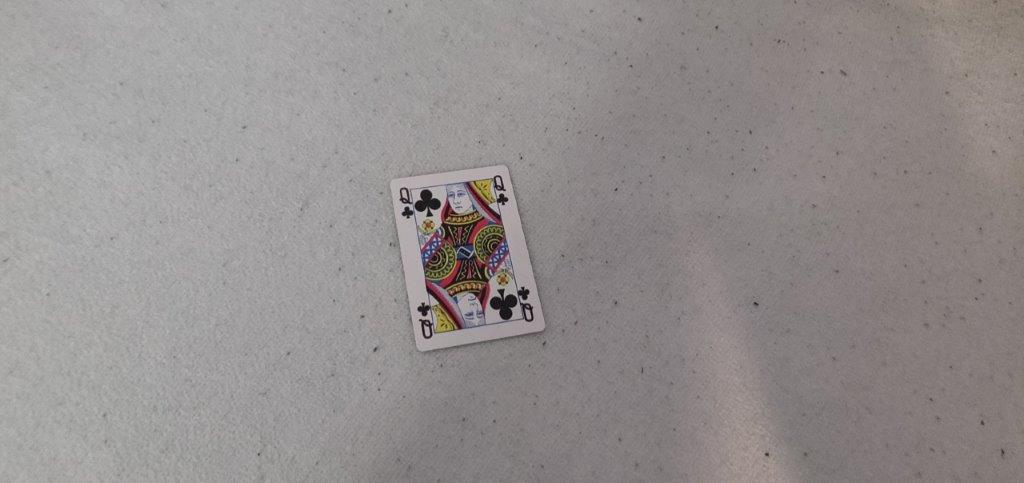QC: (489, 170, 514, 214), (395, 186, 416, 225)
